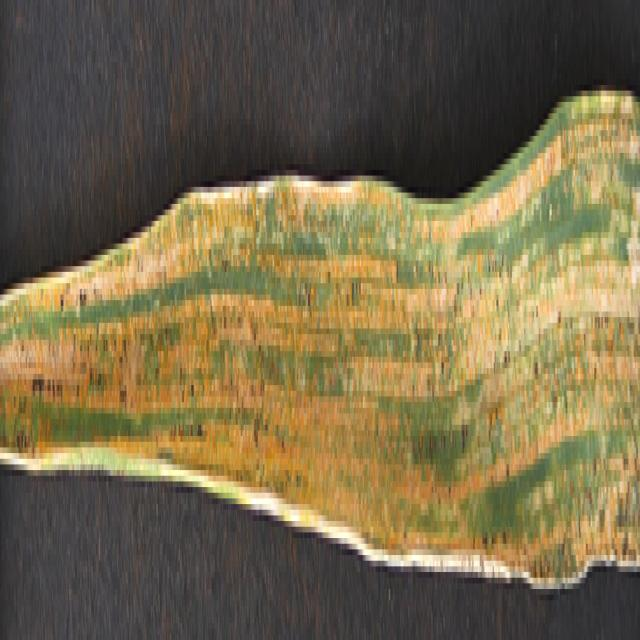leaf rust: (1, 57, 634, 566)
